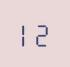one: (19, 20, 34, 47)
two: (35, 19, 50, 46)
